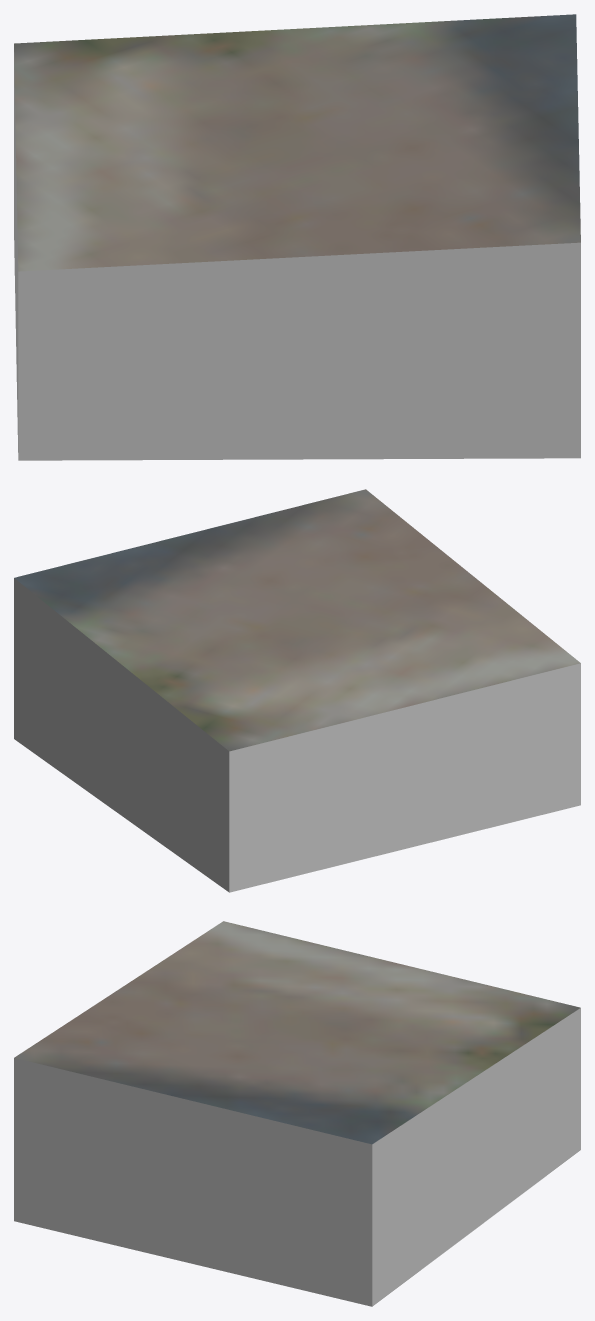
File: DEBW_0010007Txbh.gltf
3 views of the same model, one above another, from view 1: azimuth 30°, elevation 25°; view 2: azimuth 150°, elevation 25°; view 3: azimuth 270°, elevation 25° (orthographic). The views are drawn at different scales.
Visible parts, largest first — view 1: Z_UP; view 2: Z_UP; view 3: Z_UP.
Boxes of the visible parts, x1,y1,x2,y2 form: Z_UP: (14,14,580,460); Z_UP: (14,489,580,892); Z_UP: (14,921,580,1306).
Size of the model in its own units: 8.41 by 2.64 by 8.31.
2 materials, 1 textured.
